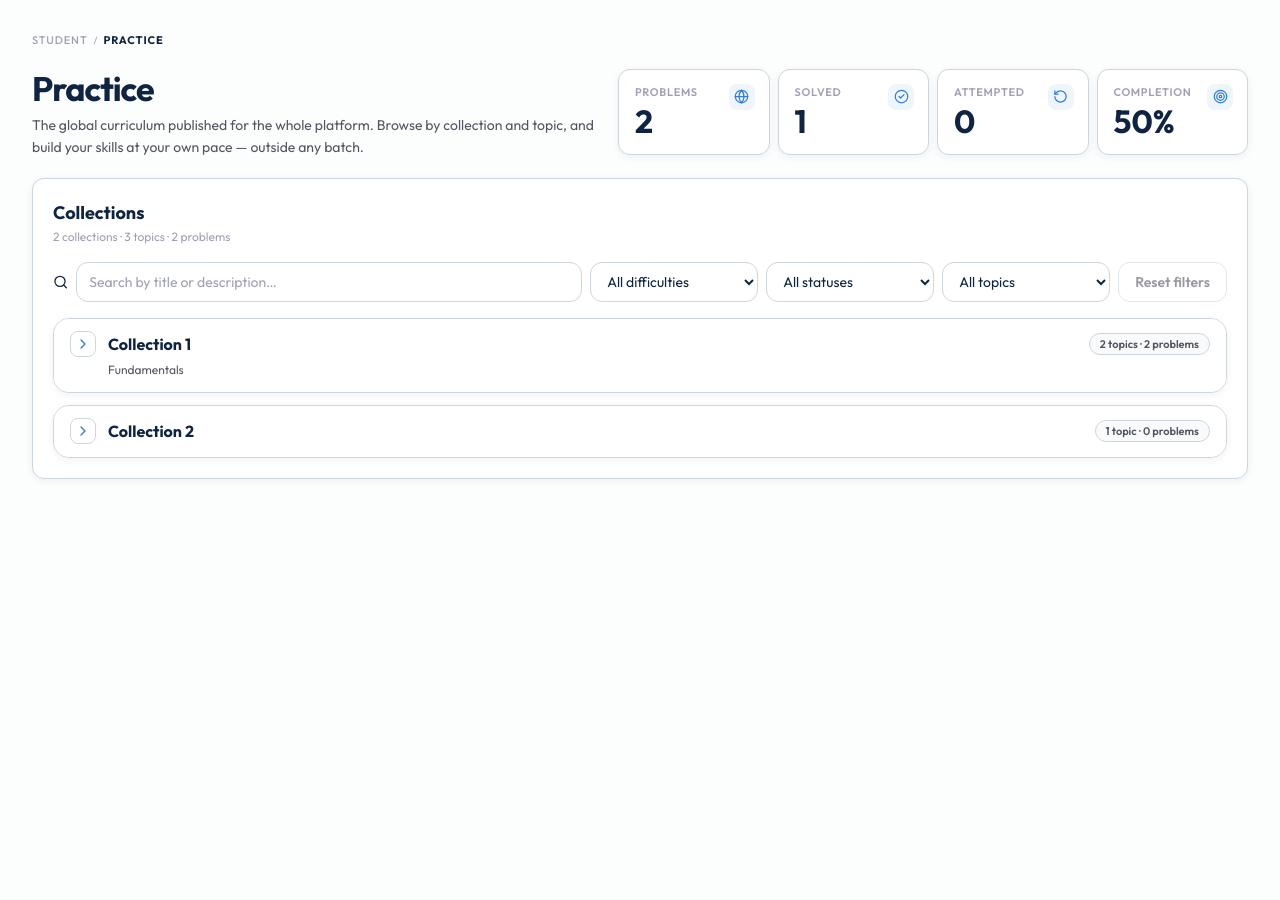
Test case: collapsing a collection hides its topic and problem rows
expect the text "Collection 1" is shown: met, box [108,334,191,354]
Click the button "Collection 1 2 topics · 2 problems": [150, 344] box [70,331,1210,357]
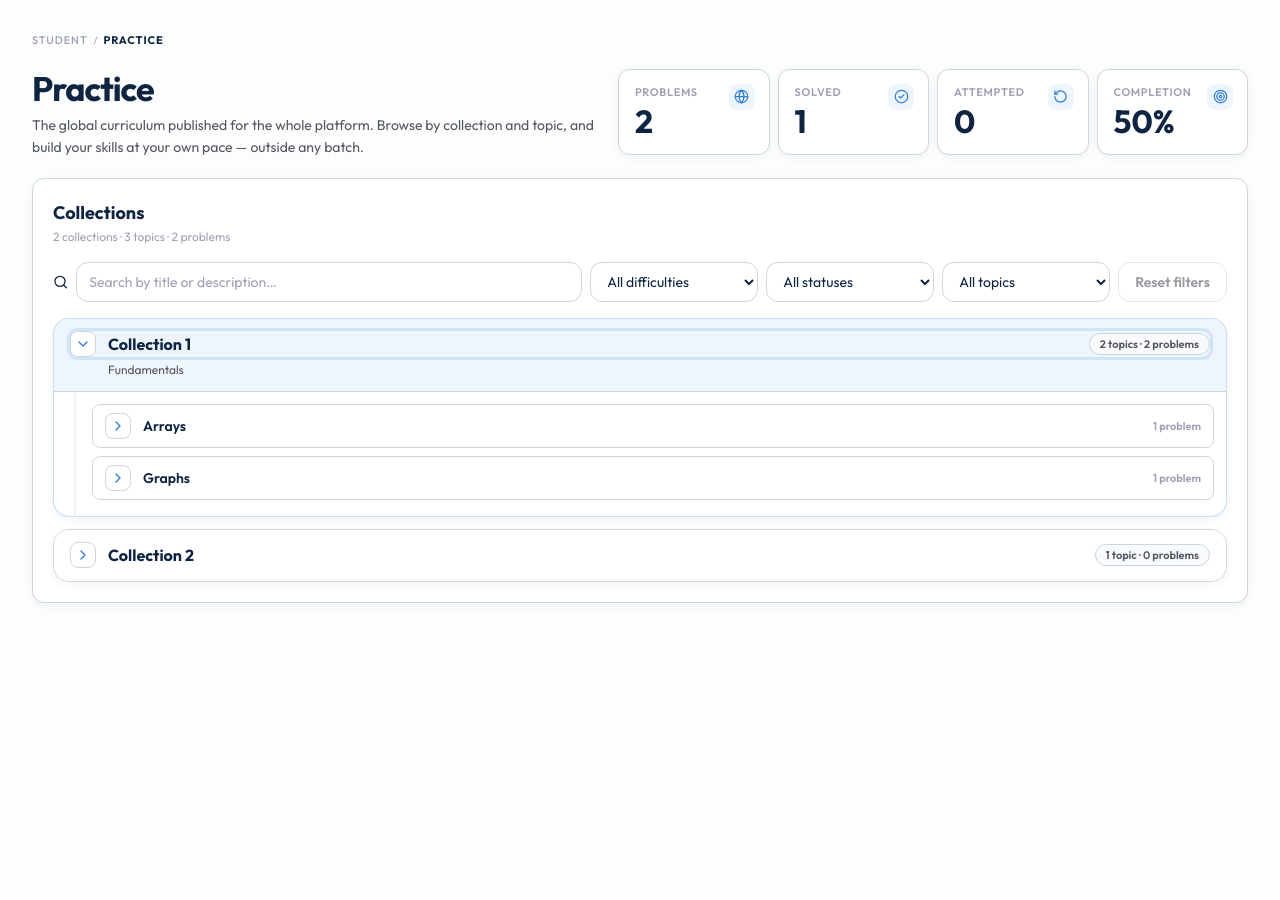
Click the button "Arrays 1 problem": [165, 426] box [105,413,1201,439]
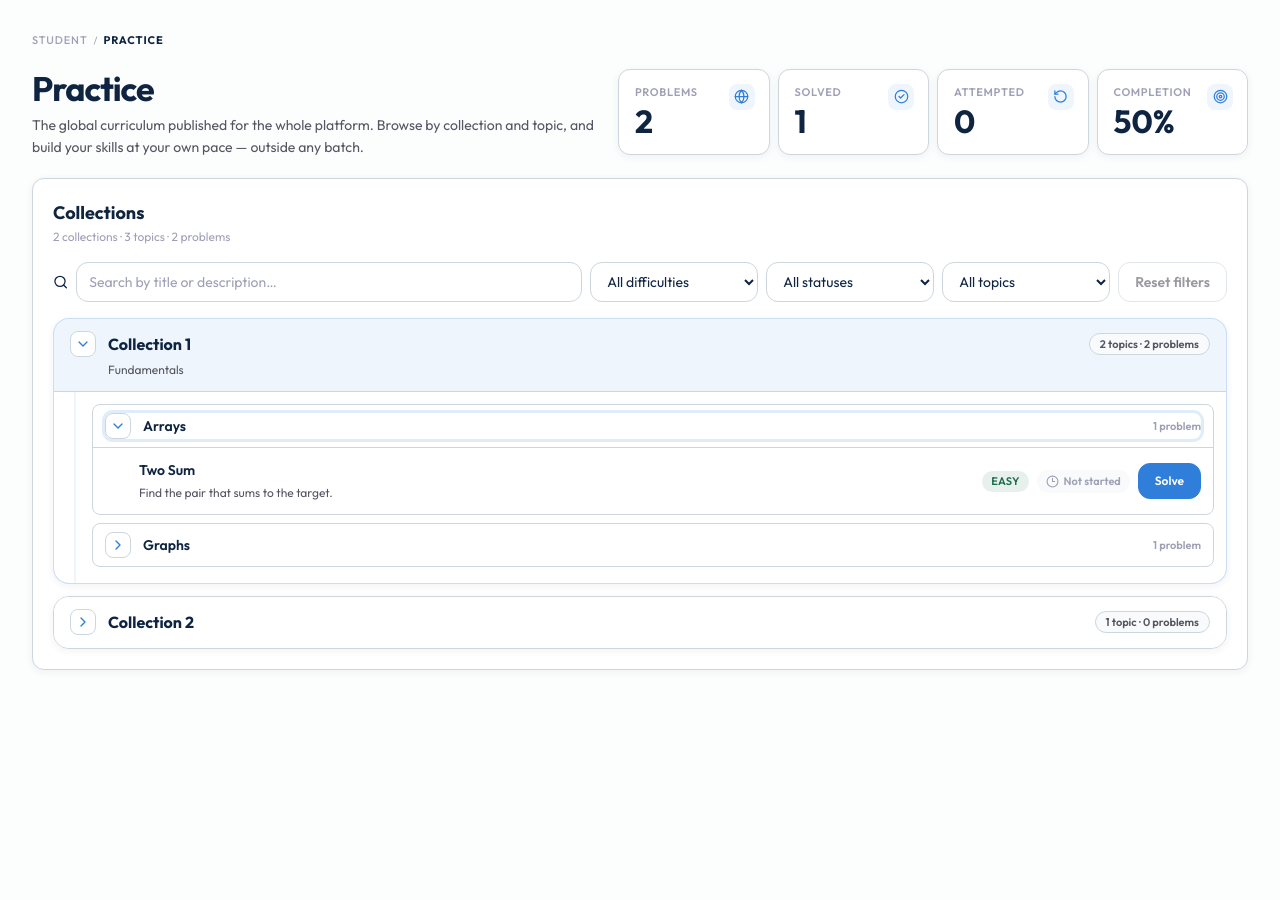
expect the text "Two Sum" is shown: met, box [139,461,195,479]
Click the button "Collection 1 2 topics · 2 problems": [150, 344] box [70,331,1210,357]
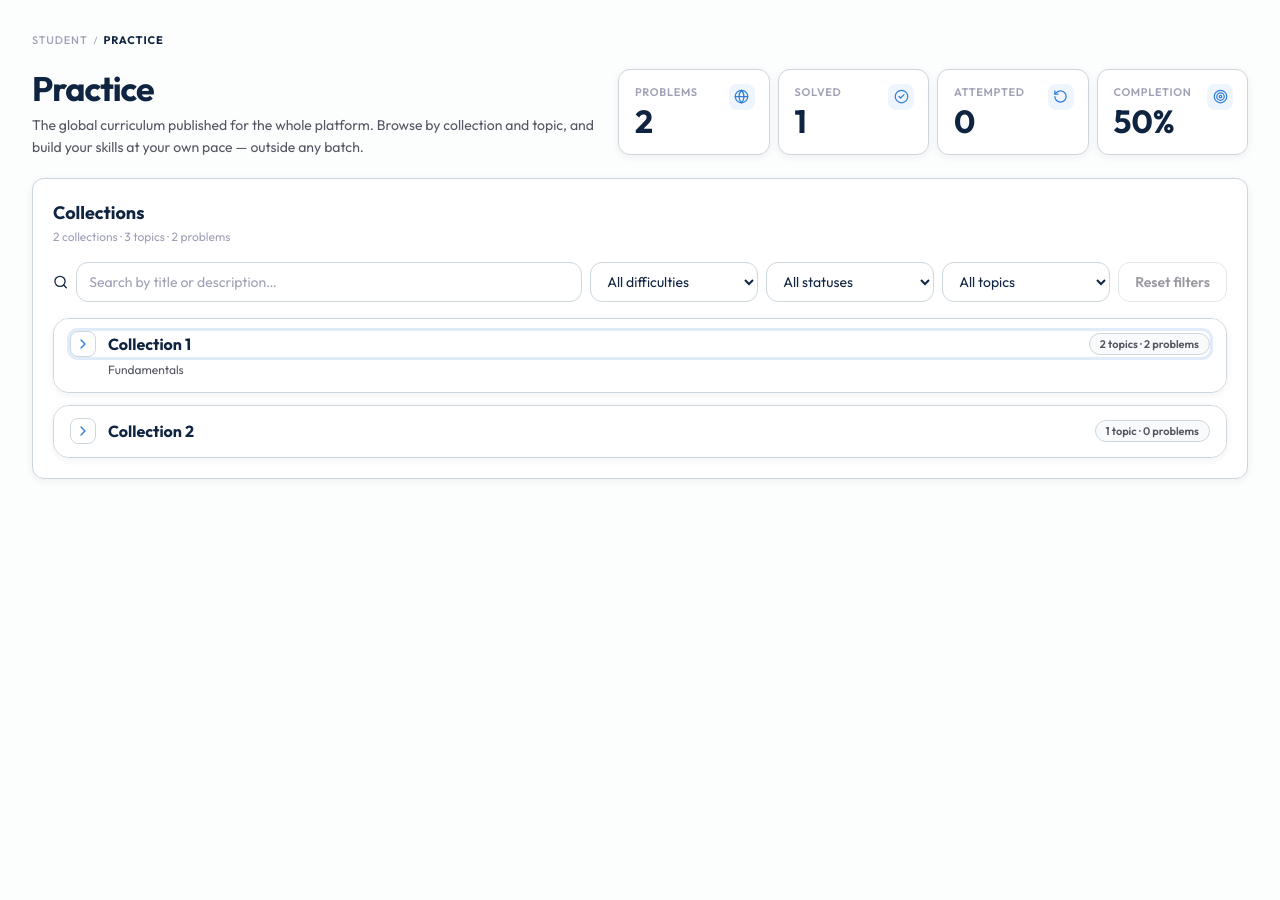
expect the button "Arrays" is gone: met
expect the text "Two Sum" is gone: met
